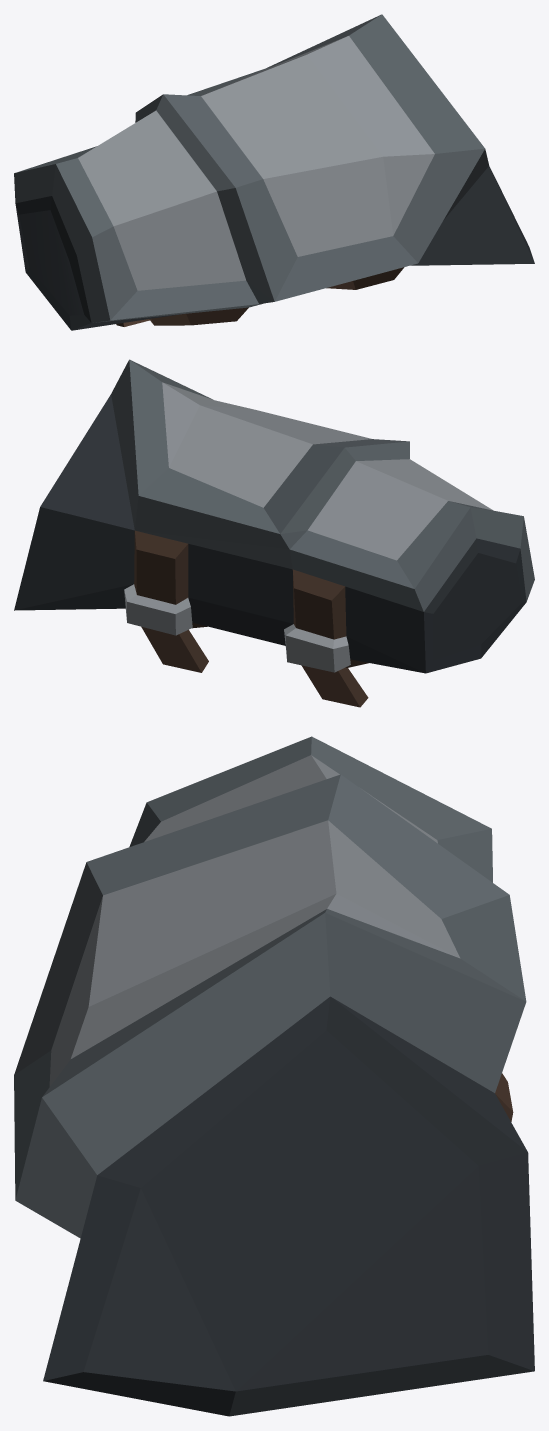
Rendered from Chr_ArmUpperRight_Male_12_Static.fbx.
The picture shows the model from 3 angles, top to bottom: view 1: azimuth 30°, elevation 25°; view 2: azimuth 150°, elevation 25°; view 3: azimuth 270°, elevation 25°; orthographic projection. The views are drawn at different scales.
Parts seen in each view (by area): view 1: Chr_ArmUpperRight_Male_12_Static; view 2: Chr_ArmUpperRight_Male_12_Static; view 3: Chr_ArmUpperRight_Male_12_Static.
Boxes of the visible parts, bbox=[...] form: Chr_ArmUpperRight_Male_12_Static: bbox=[14, 14, 534, 330]; Chr_ArmUpperRight_Male_12_Static: bbox=[14, 359, 534, 707]; Chr_ArmUpperRight_Male_12_Static: bbox=[14, 736, 534, 1416].
Size of the model in its own units: 0.3255 by 0.1945 by 0.1838.
